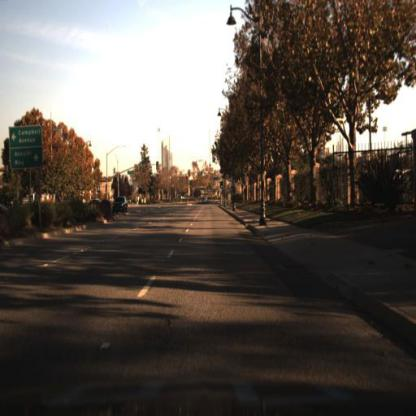car: (111, 194, 130, 220), (199, 191, 211, 210)
trafficLight-Green: (219, 181, 226, 195), (201, 169, 206, 182)
trafficLight-RedLeft: (187, 169, 193, 182)
